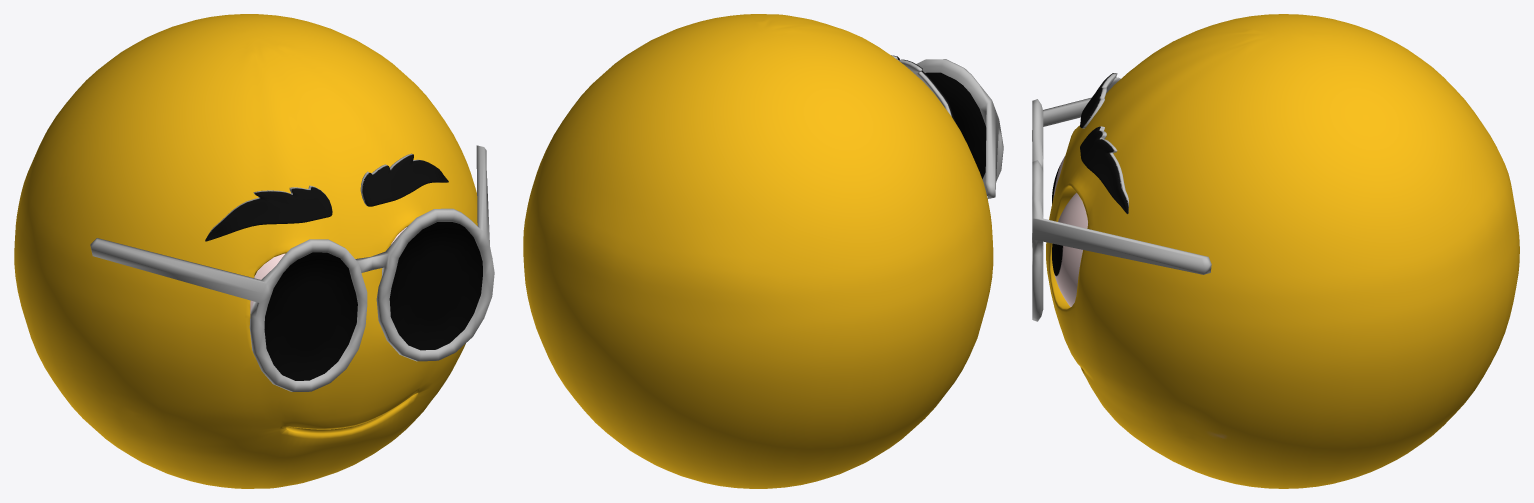
Rendered from cool_000005.obj.
3 renders of one model, left to right at view 1: azimuth 30°, elevation 25°; view 2: azimuth 150°, elevation 25°; view 3: azimuth 270°, elevation 25°, orthographic.
Parts seen in each view (by area): view 1: Smiley_goggle:Smiley_Untitled.001; view 2: Smiley_goggle:Smiley_Untitled.001; view 3: Smiley_goggle:Smiley_Untitled.001.
Boxes of the visible parts, bbox=[...] form: Smiley_goggle:Smiley_Untitled.001: bbox=[14, 14, 494, 488]; Smiley_goggle:Smiley_Untitled.001: bbox=[523, 14, 1003, 488]; Smiley_goggle:Smiley_Untitled.001: bbox=[1032, 14, 1519, 488].
Bounding box in the file's own units: 0.0425 × 0.0431 × 0.044.
2 materials, 2 textured.
